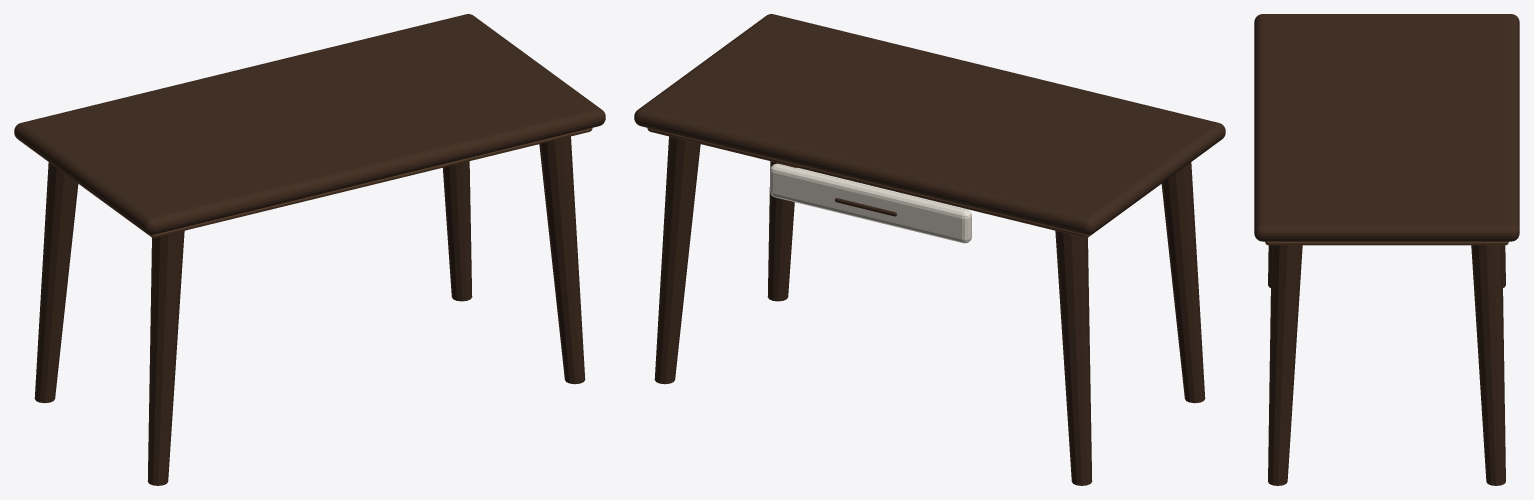
File: desk_reading.fbx
The picture shows the model from 3 angles, left to right: view 1: azimuth 30°, elevation 25°; view 2: azimuth 150°, elevation 25°; view 3: azimuth 270°, elevation 25°; orthographic projection. The views are drawn at different scales.
Parts seen in each view (by area): view 1: desk_reading; view 2: desk_reading; view 3: desk_reading.
Part boxes in pixels (x1,y1,x2,y2): desk_reading: [14, 14, 605, 485]; desk_reading: [634, 14, 1225, 485]; desk_reading: [1254, 14, 1519, 485].
Size of the model in its own units: 1.2 by 0.68 by 0.62.
